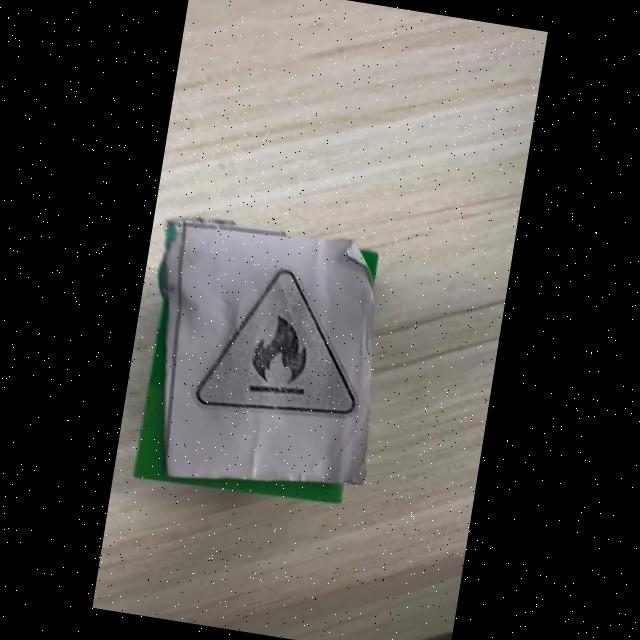Fire: (197, 265, 354, 413)
